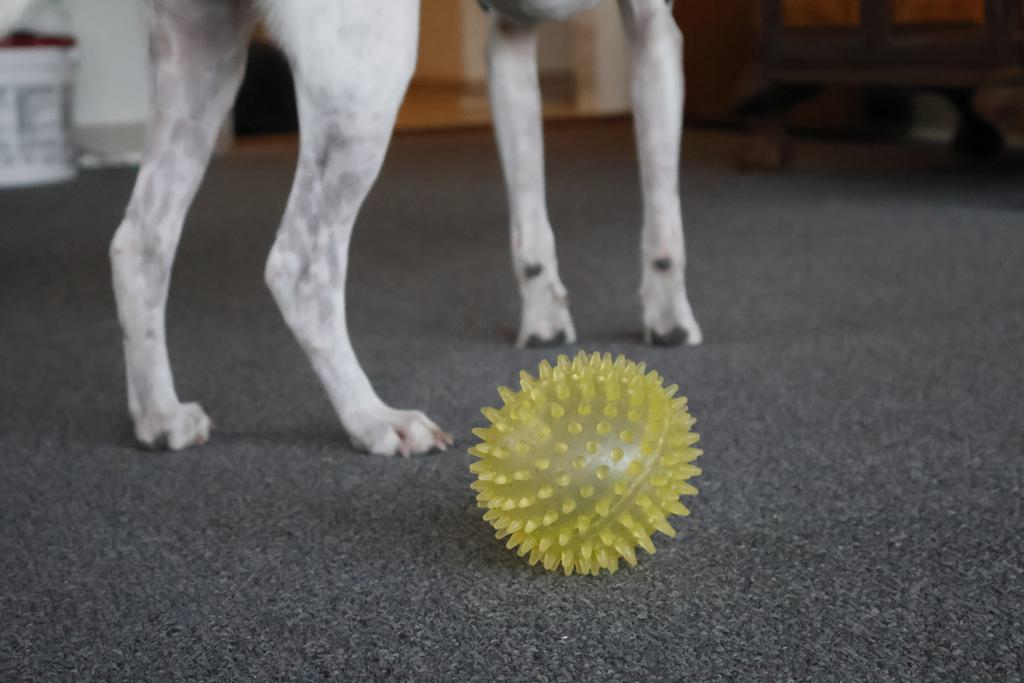Dog: (89, 0, 723, 472)
